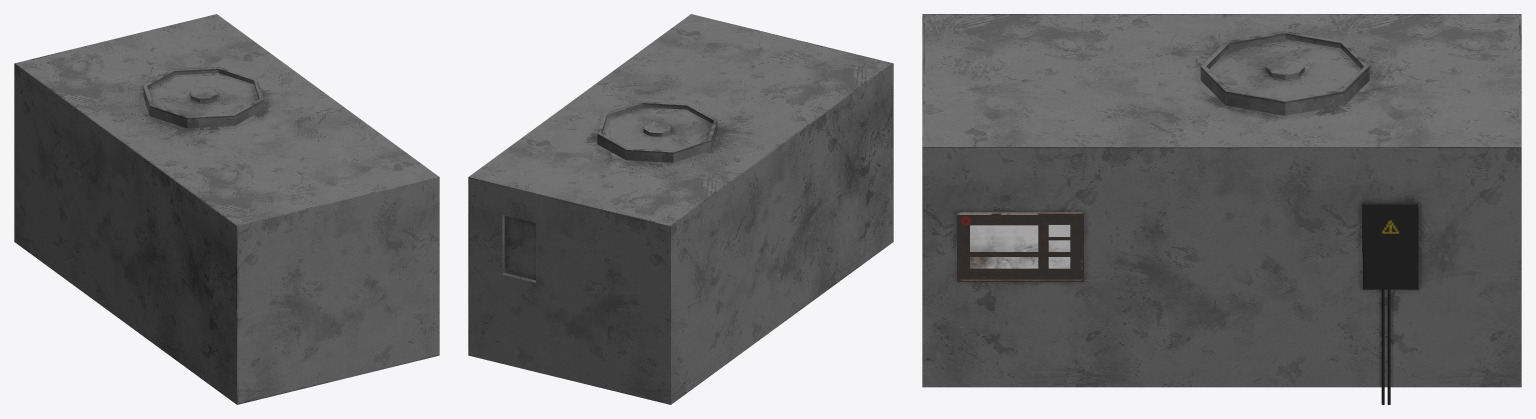
The model's file is SomeBox.fbx.
3 renders of one model, left to right at view 1: azimuth 30°, elevation 25°; view 2: azimuth 150°, elevation 25°; view 3: azimuth 270°, elevation 25°, orthographic. The views are drawn at different scales.
Parts seen in each view (by area): view 1: Cube.009; view 2: Cube.009; view 3: Cube.009.
Boxes of the visible parts, x1=… form: Cube.009: x1=14, y1=14, x2=439, y2=404; Cube.009: x1=468, y1=14, x2=893, y2=404; Cube.009: x1=922, y1=14, x2=1521, y2=404.
Size of the model in its own units: 156 by 146 by 294.
4 materials, 4 textured.
